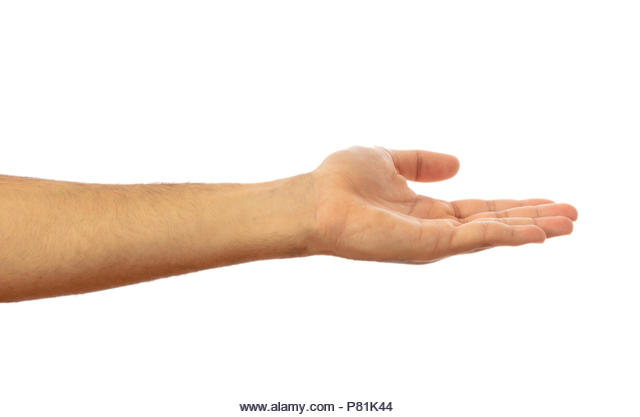non-diseased: (314, 126, 584, 272)
